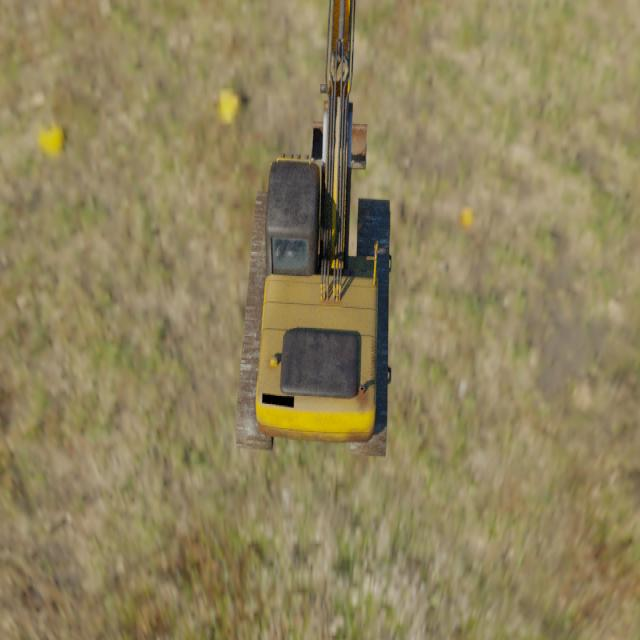excavator: (235, 0, 392, 459)
